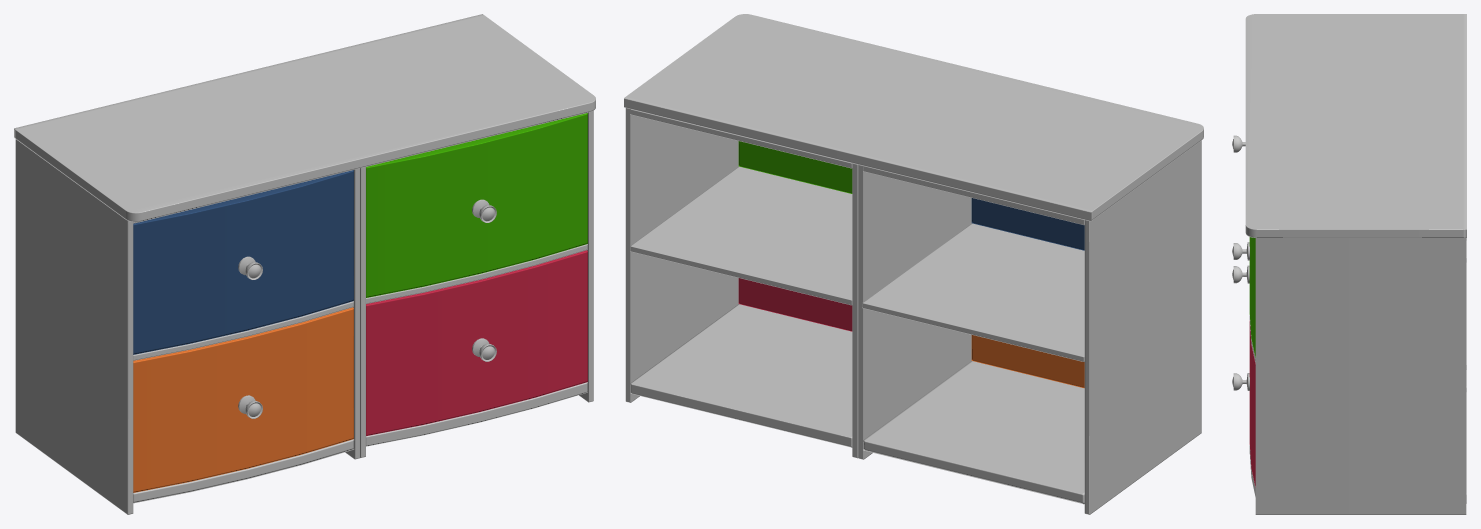
File: bedsidetable.fbx
3 views of the same model, side by side, from view 1: azimuth 30°, elevation 25°; view 2: azimuth 150°, elevation 25°; view 3: azimuth 270°, elevation 25° (orthographic). The views are drawn at different scales.
Visible parts, largest first — view 1: bedsidetable; view 2: bedsidetable; view 3: bedsidetable.
Part boxes in pixels (box(x1,y1,x2,y2)): bedsidetable: box(14, 14, 595, 514); bedsidetable: box(624, 14, 1203, 514); bedsidetable: box(1232, 14, 1466, 514).
Bounding box in the file's own units: 2.42 × 1.5 × 1.11.
